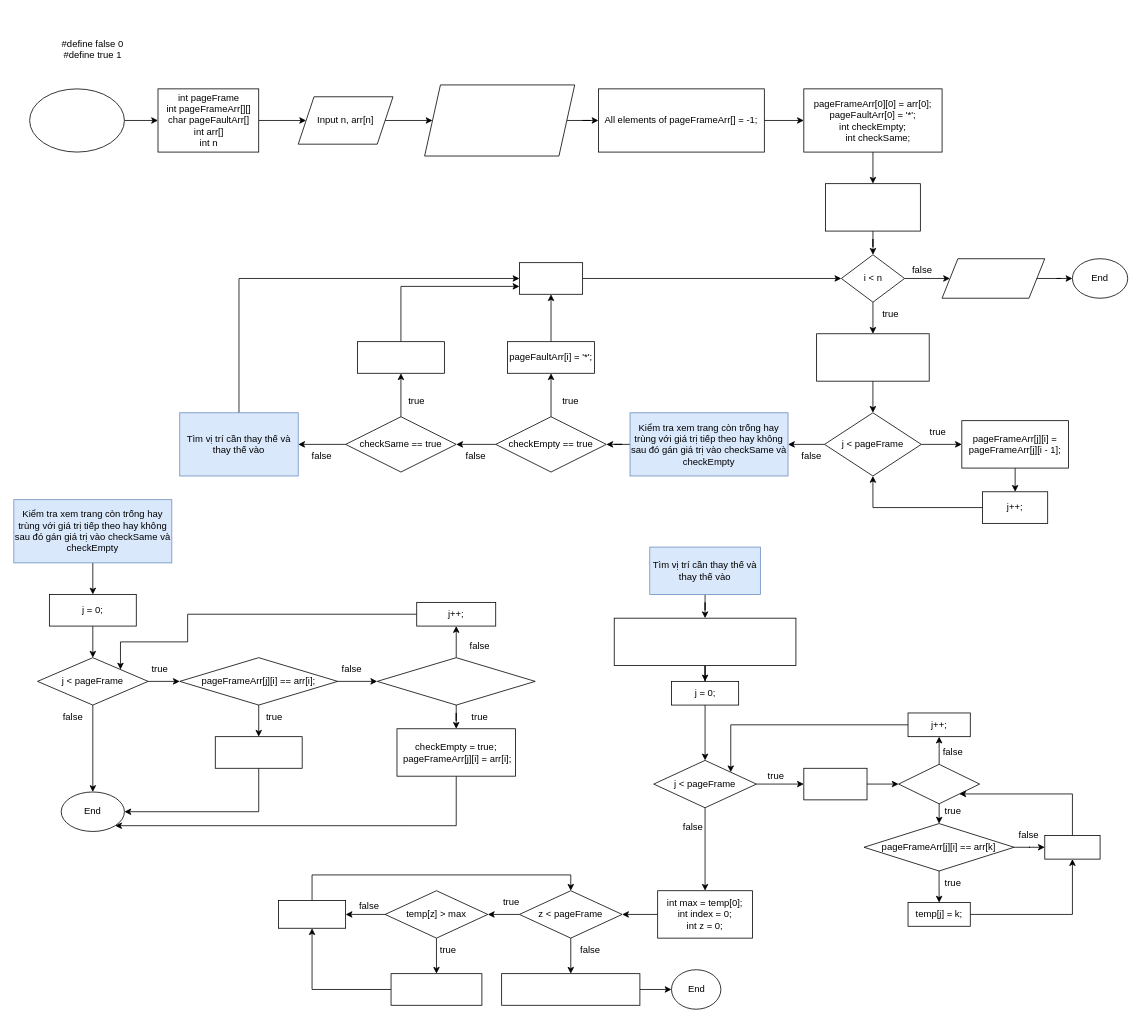
This 1142x1023 diagram has some shape labels left out. Each missing label, with the centre of its shape:
"Begin" goes at pixel 76 120.
"checkEmpty = false; checkSame = false; int j = 0;" goes at pixel 872 357.
"checkSame = true;" goes at pixel 258 752.
"Export pageFrameArr[][]" goes at pixel 993 278.
"i++;" goes at pixel 551 278.
"input pageFrame, pageFrameArr[pageFrame][n]" goes at pixel 499 120.
"int i = 1" goes at pixel 872 207.
"k < n" goes at pixel 939 784.
"k = i + 1;" goes at pixel 835 783.
"k++;" goes at pixel 1072 847.
"max = temp[z]; index = z;" goes at pixel 436 989.
"pageFaultArr[i] = ' ';" goes at pixel 400 357.
"pageFaultArr[i] = '*'; int temp[pageFrame]; All elements of temp[] = 1e8;" goes at pixel 704 641.
"pageFrameArr[index][i] = arr[i];" goes at pixel 570 989.
"pageFrameArr[j][i] == -1;" goes at pixel 455 681.
"z++;" goes at pixel 312 914.
